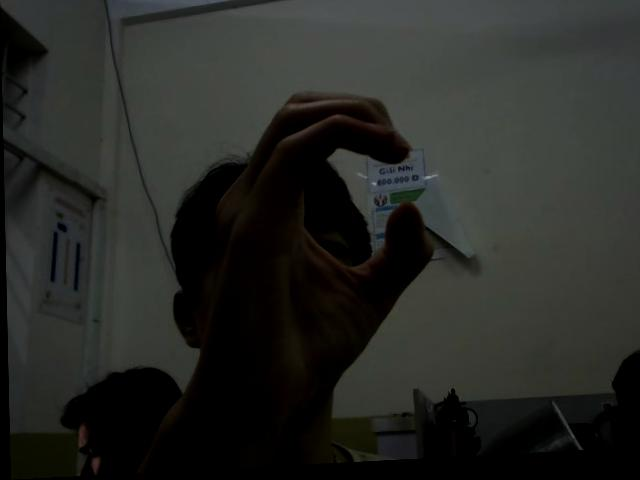C: (207, 85, 438, 411)
